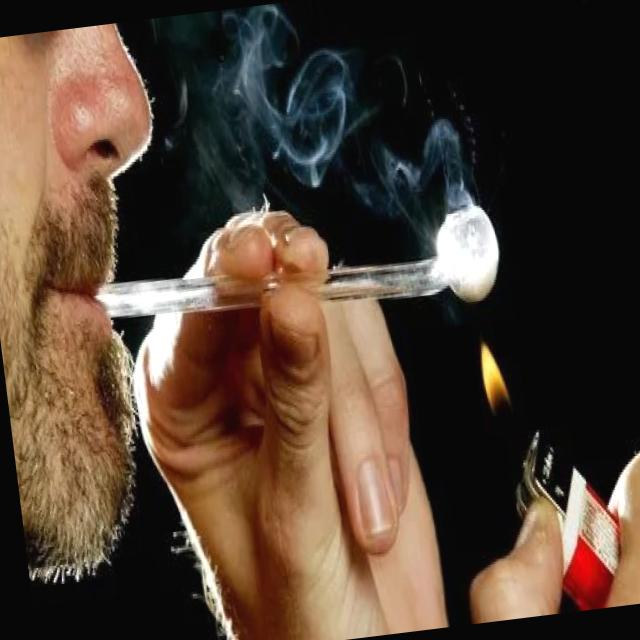smoke: (81, 195, 512, 350)
